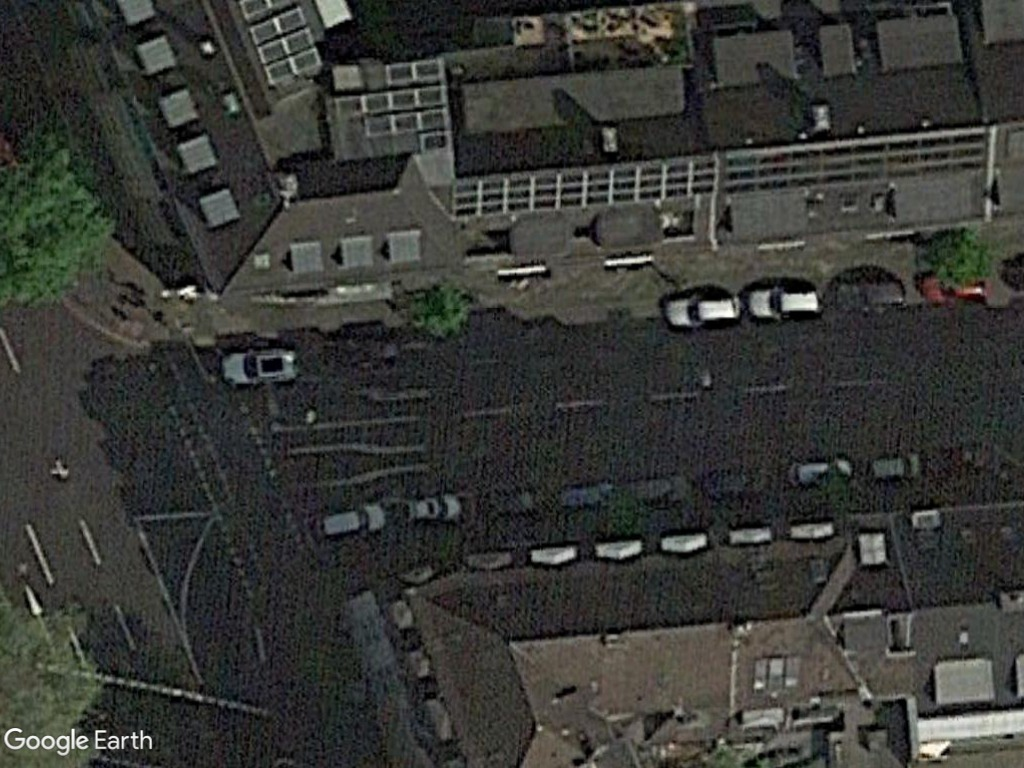car: (215, 348, 303, 392), (657, 291, 747, 334), (744, 285, 827, 323)
